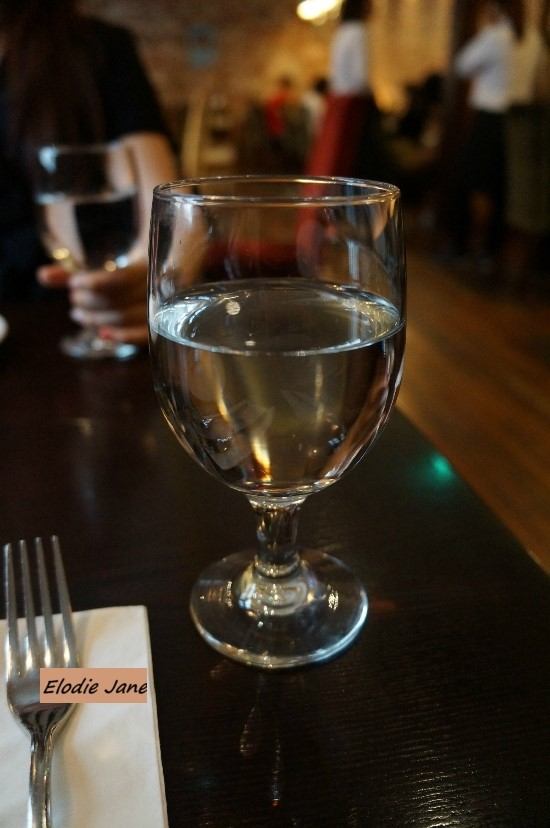glass of water: (170, 189, 376, 661)
